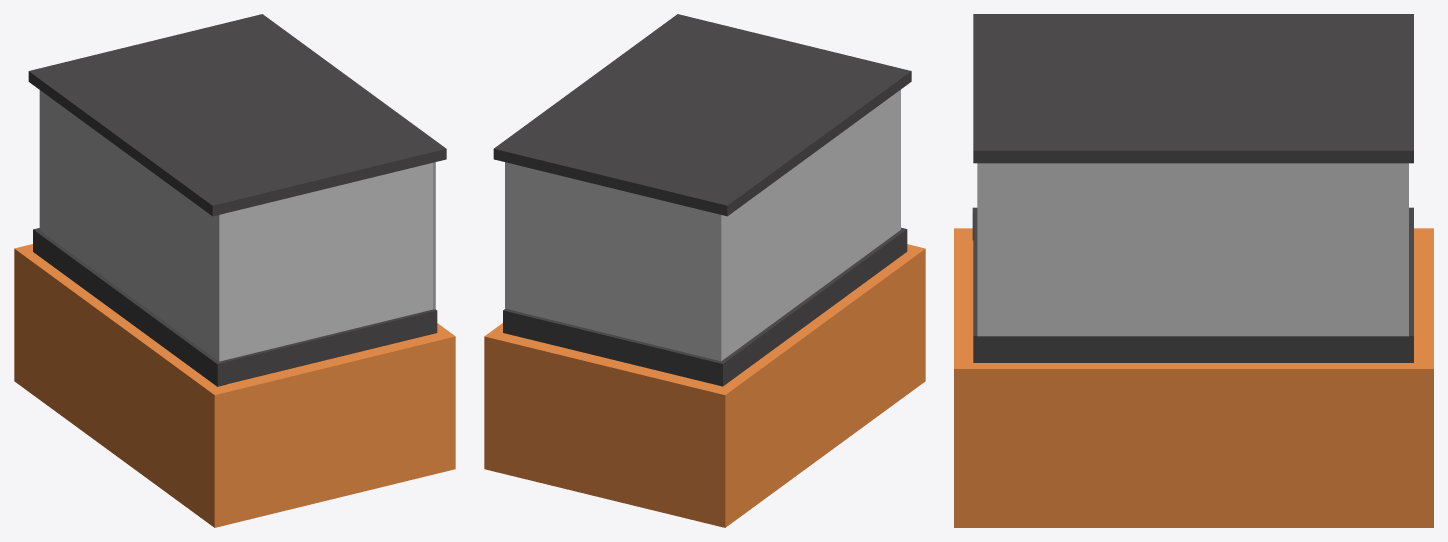
The model's file is Acqaruims.fbx.
3 views of the same model, side by side, from view 1: azimuth 30°, elevation 25°; view 2: azimuth 150°, elevation 25°; view 3: azimuth 270°, elevation 25° (orthographic). The views are drawn at different scales.
Visible parts, largest first — view 1: Acqaruims; view 2: Acqaruims; view 3: Acqaruims.
Part boxes in pixels (x1=…): Acqaruims: x1=14, y1=14, x2=455, y2=527; Acqaruims: x1=484, y1=14, x2=925, y2=527; Acqaruims: x1=954, y1=14, x2=1433, y2=527.
Size of the model in its own units: 124 by 155 by 179.
